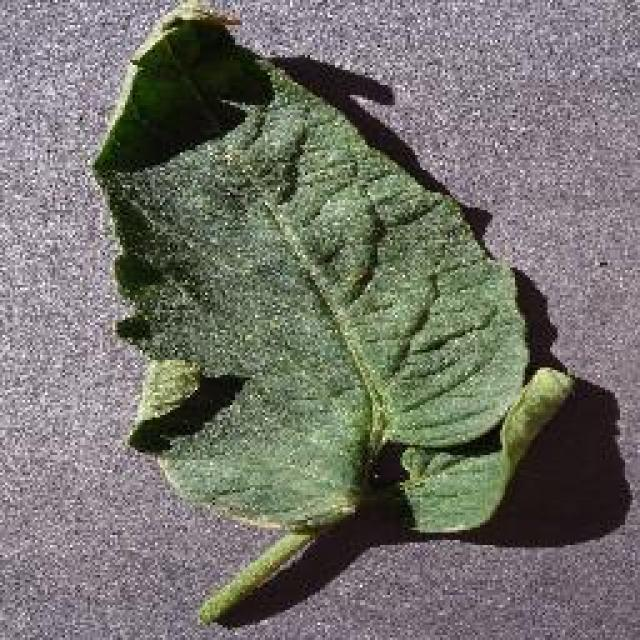Tomato healthy leaf: (84, 8, 574, 572)
